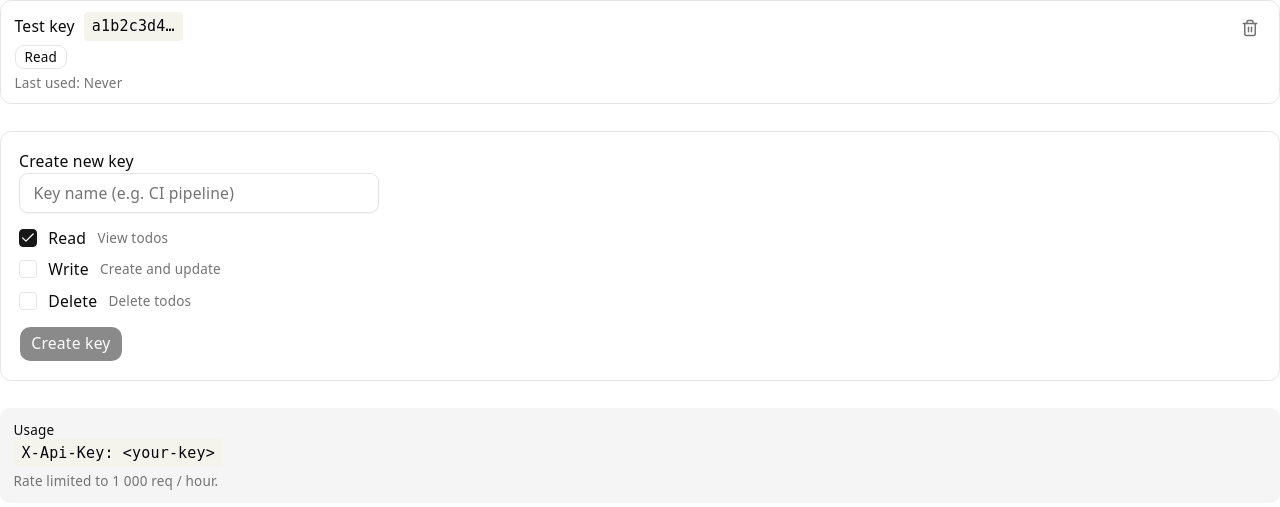
Test: ApiKeysSection › shows confirm and cancel after clicking revoke icon
The width and height of the screenshot is (1280, 507).
Expected: the text "Test key" is shown, [14, 15, 75, 38]
Click the 1st button: x=1250, y=28 [1234, 12, 1266, 44]
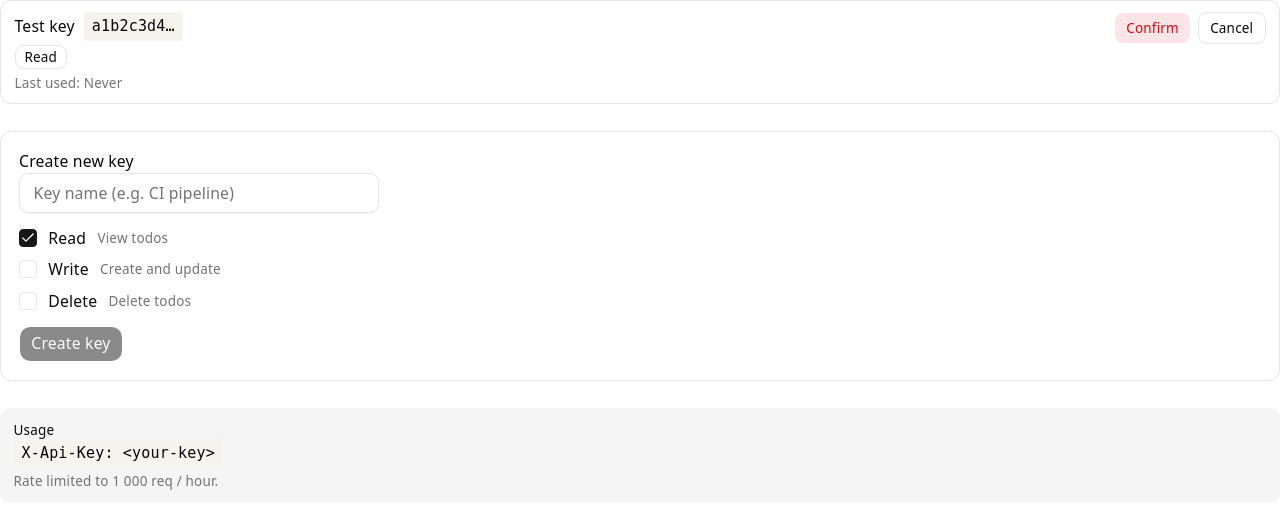
Result: the button "Confirm" is shown at [1114, 12, 1191, 44]
Result: the button "Cancel" is shown at [1198, 12, 1266, 44]
